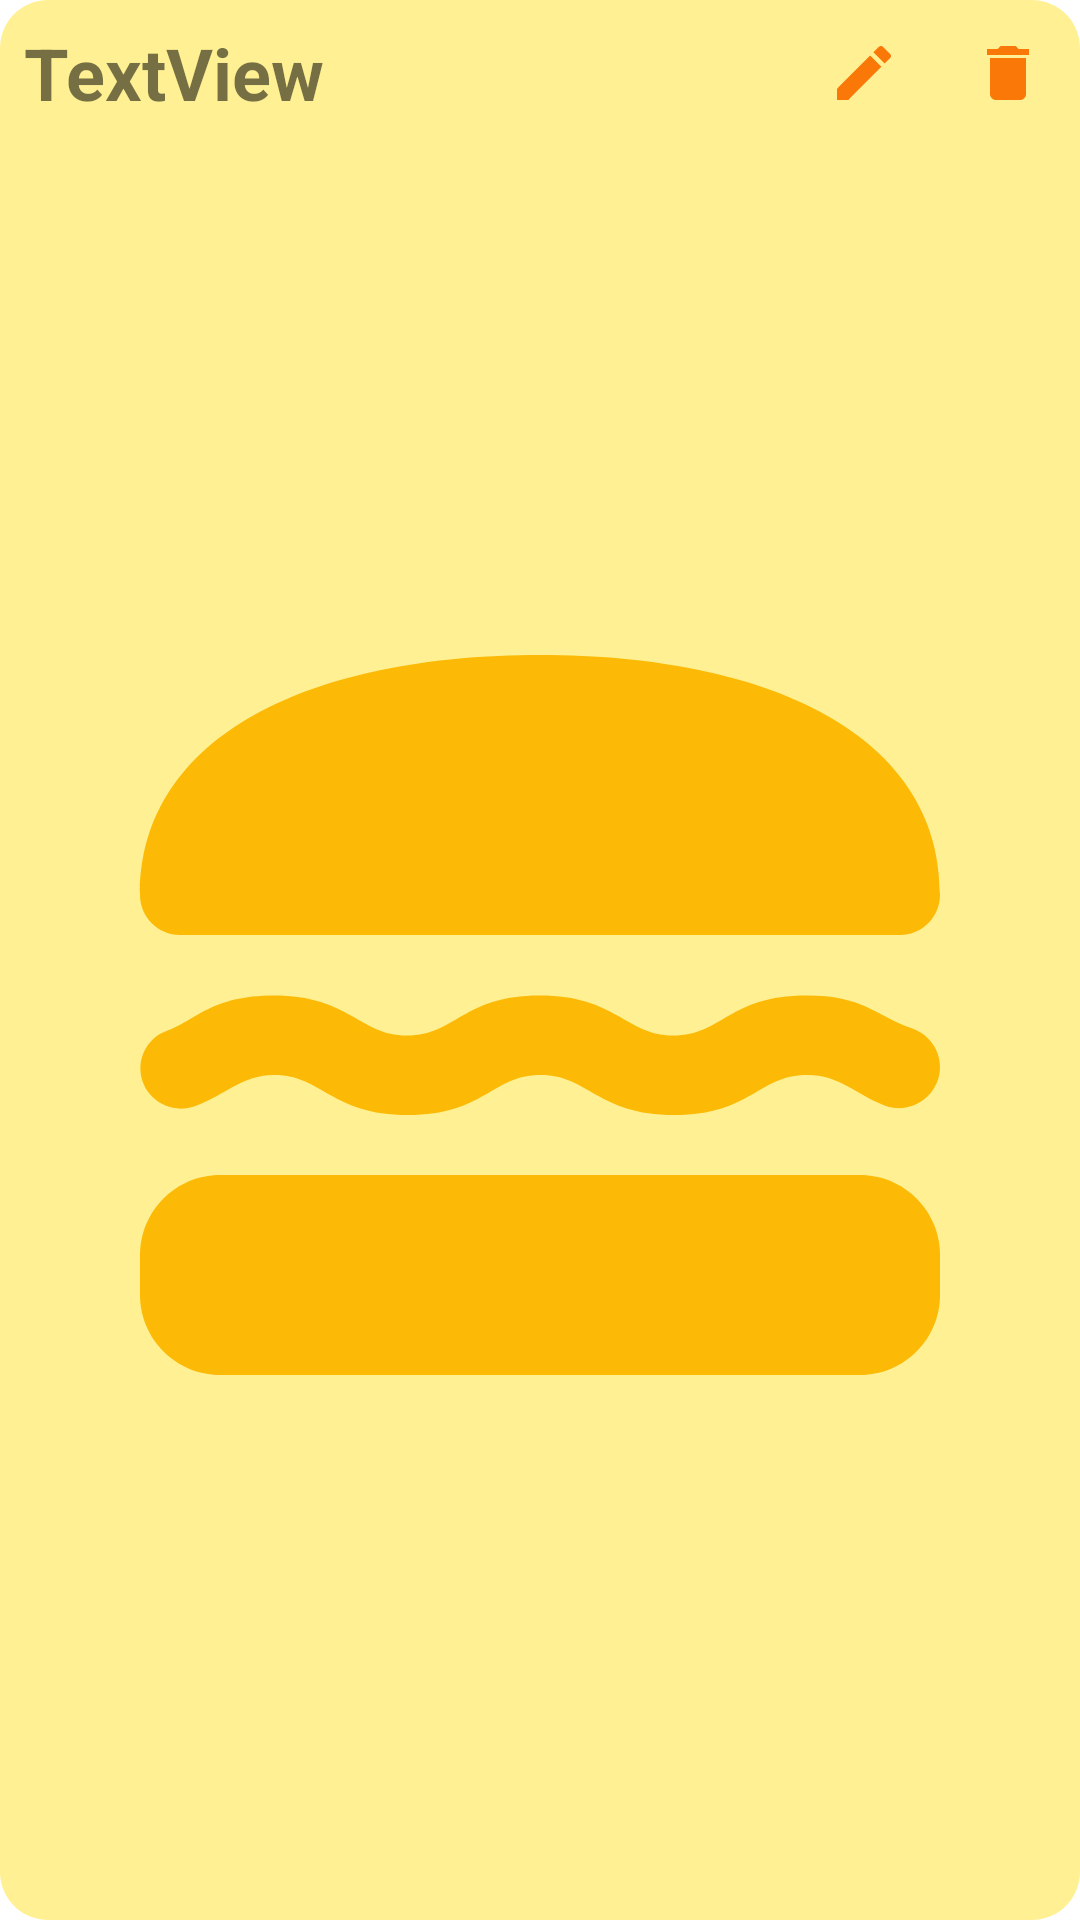

Screen size 1080x1920. Icon name, then its center in pixels as [x,y]:
delete: [1008,73]
edit: [864,73]
